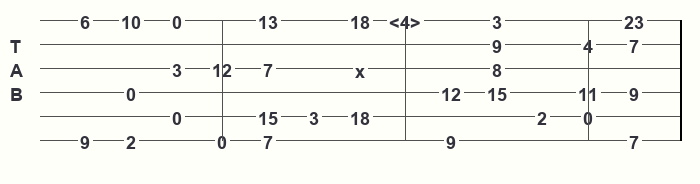0: (126, 84, 140, 101), (172, 12, 186, 29), (172, 108, 186, 125), (217, 132, 231, 149), (583, 108, 597, 125)
10: (121, 12, 145, 29)
11: (578, 84, 602, 101)
12: (212, 60, 236, 77), (441, 84, 465, 101)
13: (258, 12, 282, 29)
15: (258, 108, 282, 125), (487, 84, 511, 101)
18: (350, 108, 374, 125), (350, 12, 374, 29)
2: (126, 132, 140, 149), (537, 108, 551, 125)
23: (624, 12, 648, 29)
3: (172, 60, 186, 77), (309, 108, 323, 125), (492, 12, 506, 29)
4: (583, 36, 597, 53)
6: (80, 12, 94, 29)
7: (263, 132, 277, 149), (263, 60, 277, 77), (629, 36, 643, 53), (629, 132, 643, 149)
8: (492, 60, 506, 77)
9: (80, 132, 94, 149), (446, 132, 460, 149), (492, 36, 506, 53), (629, 84, 643, 101)
harmonic: (389, 12, 425, 29)
x: (355, 61, 369, 75)
